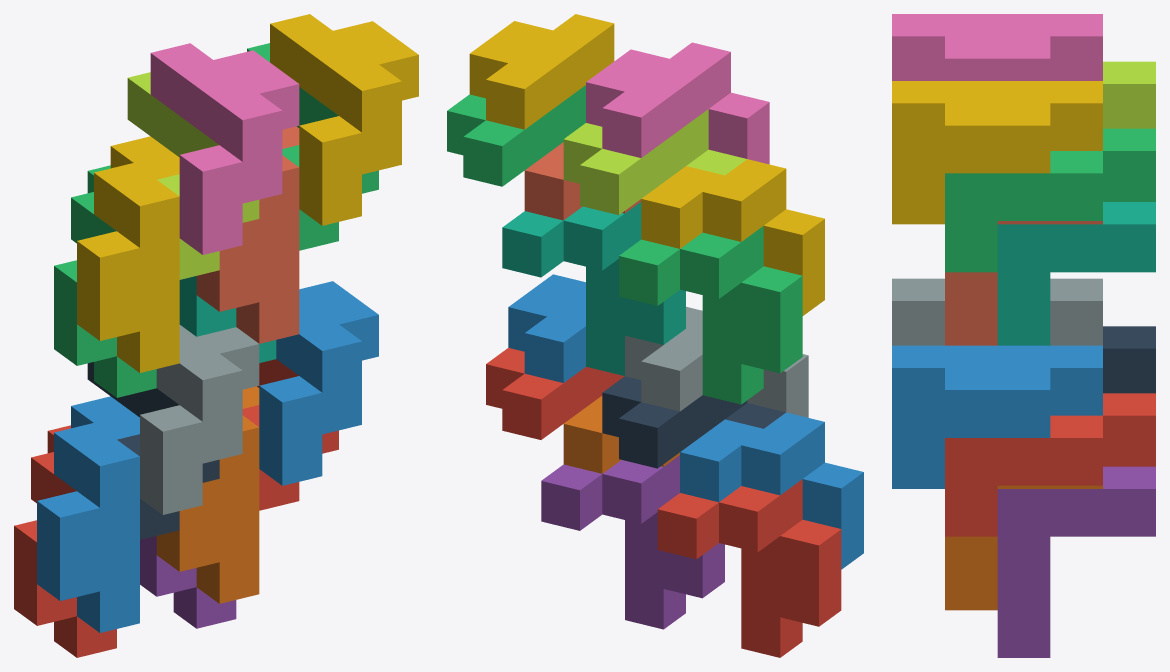
The model's file is tiling.obj.
3 renders of one model, left to right at view 1: azimuth 30°, elevation 25°; view 2: azimuth 150°, elevation 25°; view 3: azimuth 270°, elevation 25°, orthographic. The views are drawn at different scales.
Visible parts, largest first — view 1: copy_2_domain_4, copy_2_domain_8, copy_1_domain_4, copy_1_domain_2, copy_2_domain_6, copy_2_domain_2, copy_1_domain_8, copy_1_domain_6, copy_1_domain_1, copy_1_domain_3, copy_2_domain_3, copy_1_domain_5 (+4 smaller); view 2: copy_1_domain_1, copy_1_domain_3, copy_2_domain_4, copy_1_domain_5, copy_1_domain_4, copy_1_domain_2, copy_1_domain_7, copy_2_domain_8, copy_2_domain_3, copy_2_domain_2, copy_2_domain_1, copy_2_domain_7 (+4 smaller); view 3: copy_2_domain_6, copy_2_domain_8, copy_1_domain_5, copy_2_domain_5, copy_2_domain_7, copy_2_domain_4, copy_1_domain_7, copy_2_domain_2, copy_1_domain_6, copy_1_domain_8, copy_2_domain_1, copy_2_domain_3.
Part boxes in pixels (x1,y1,x2,y2): copy_2_domain_4: (150,43,299,254); copy_2_domain_8: (270,14,418,225); copy_1_domain_4: (77,136,179,372); copy_1_domain_2: (37,396,139,632); copy_2_domain_6: (259,281,378,485); copy_2_domain_2: (140,325,259,514); copy_1_domain_8: (196,126,299,343); copy_1_domain_6: (156,386,259,603); copy_1_domain_1: (14,425,116,657); copy_1_domain_3: (54,165,156,397); copy_2_domain_3: (127,72,259,279); copy_1_domain_5: (140,536,236,628); copy_1_domain_1: (657,479,841,657); copy_1_domain_3: (619,226,802,404); copy_2_domain_4: (586,42,769,164); copy_1_domain_5: (541,455,724,629); copy_1_domain_4: (641,159,824,315); copy_1_domain_2: (680,412,863,569); copy_1_domain_7: (502,202,685,375); copy_2_domain_8: (469,14,614,129); copy_2_domain_3: (563,109,746,215); copy_2_domain_2: (625,306,808,417); copy_2_domain_1: (602,376,785,468); copy_2_domain_7: (447,85,585,186); copy_2_domain_6: (892,345,1102,488); copy_2_domain_8: (892,81,1102,224); copy_1_domain_5: (997,466,1155,657); copy_2_domain_5: (945,393,1155,536); copy_2_domain_7: (945,128,1155,272); copy_2_domain_4: (892,14,1102,80); copy_1_domain_7: (997,202,1155,345); copy_2_domain_2: (892,278,1102,345); copy_1_domain_6: (945,485,1102,610); copy_1_domain_8: (945,221,1102,345); copy_2_domain_1: (1103,326,1155,393); copy_2_domain_3: (1103,61,1155,128).
Bounding box in the file's own units: 9 × 13 × 5.
